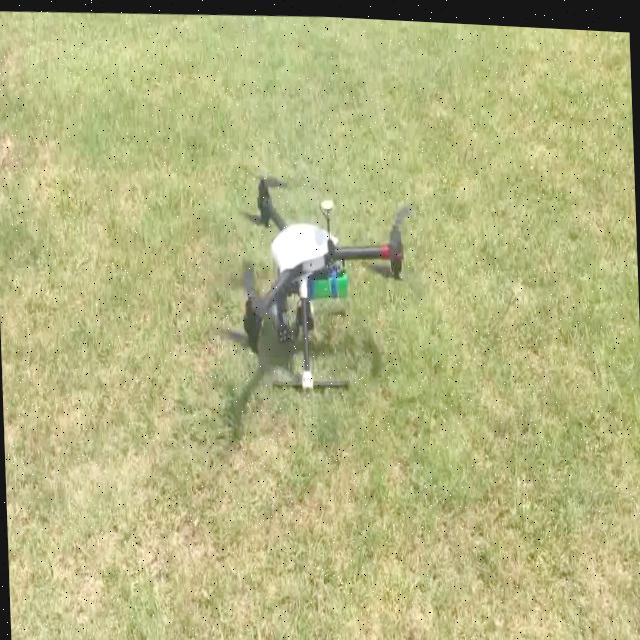drone: (232, 153, 416, 405)
